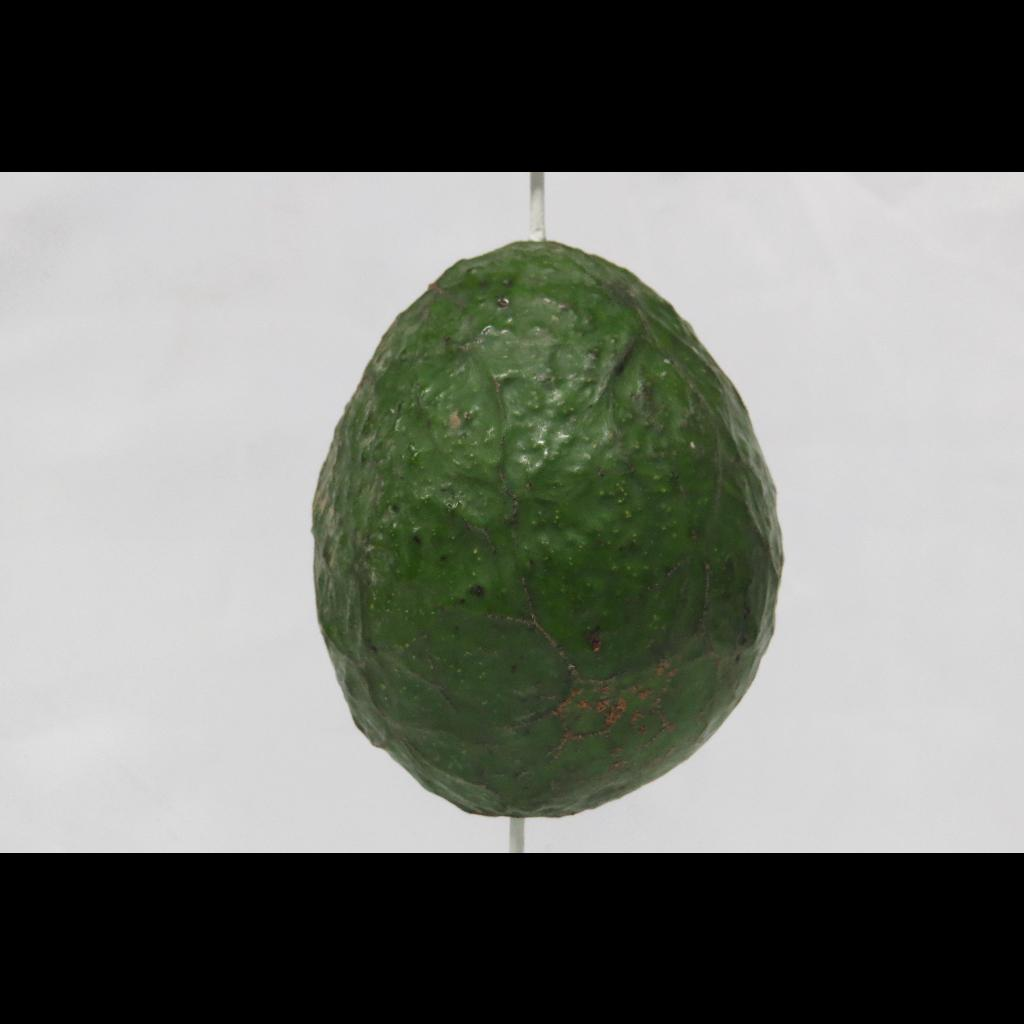fruto_sano: (285, 193, 817, 835)
